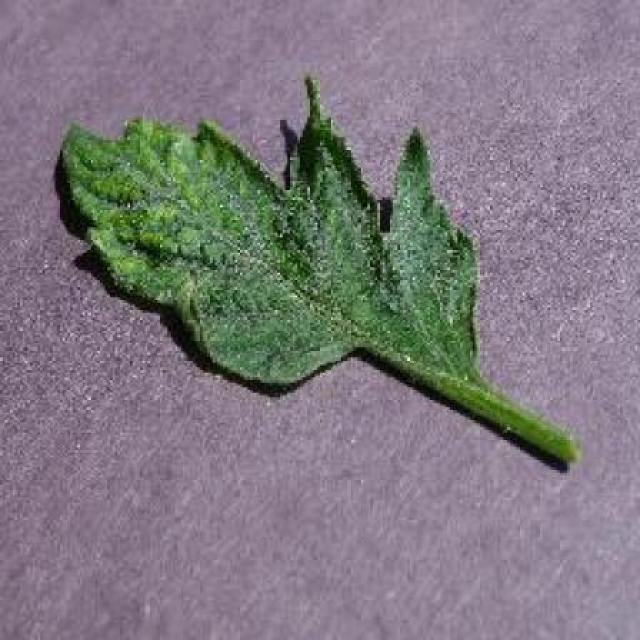Mosaic Virus: (54, 70, 485, 396)
